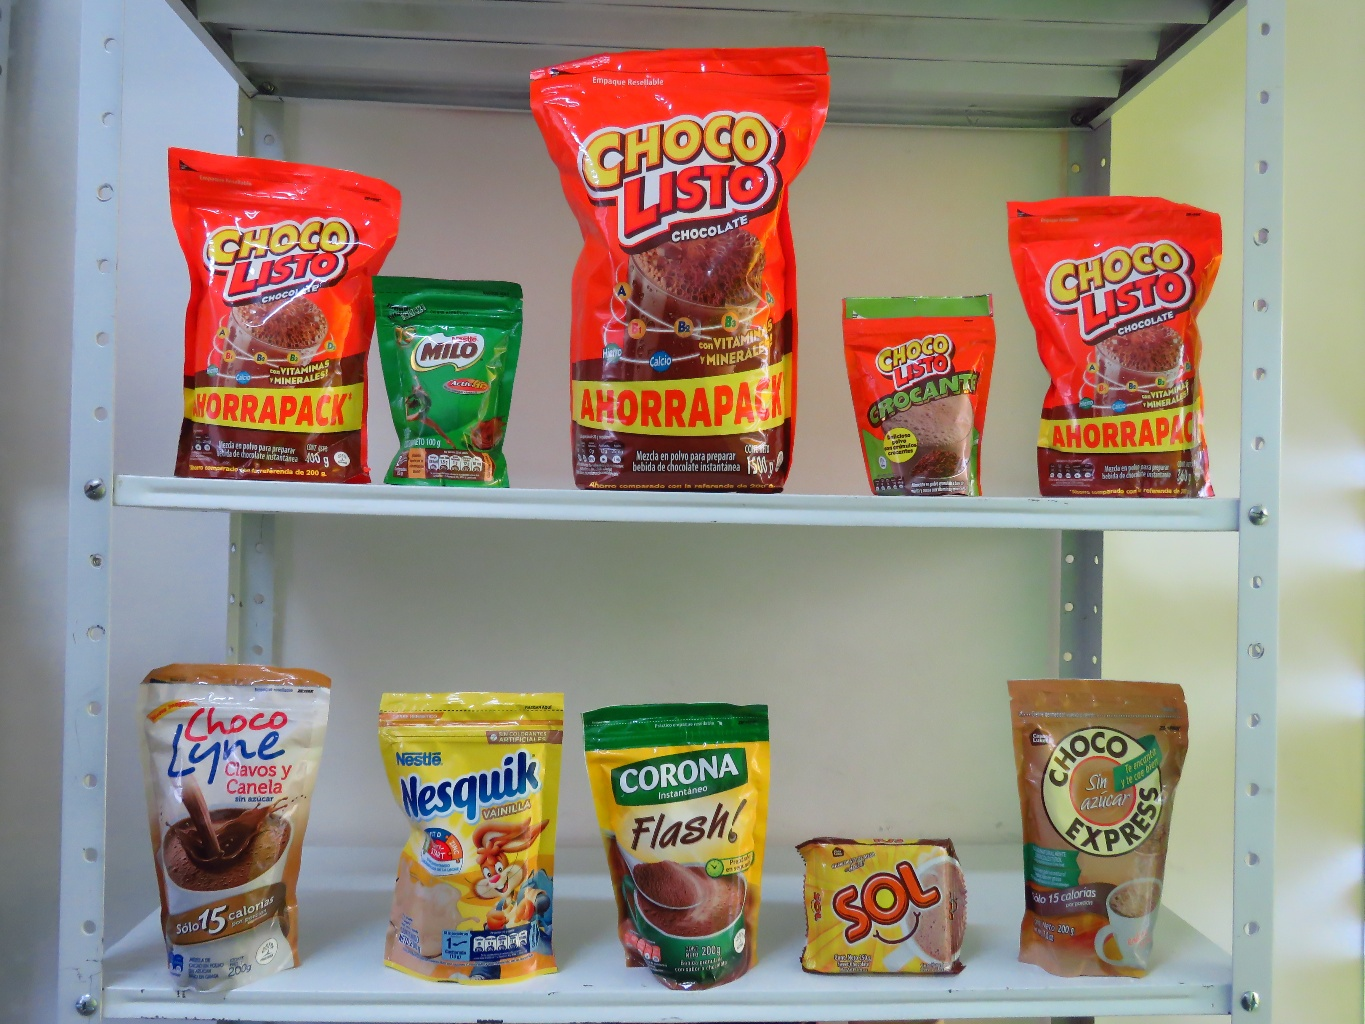COL0170102DYP10000: (840, 287, 994, 497)
COL0170103DYP1,500: (512, 42, 839, 492)
COL0170103DYP36000: (1007, 198, 1226, 499)
COL0170103DYP40000: (159, 144, 399, 484)
COL0170203DYP10000: (369, 270, 528, 487)
COL0170306DYP20000: (375, 689, 568, 984)
